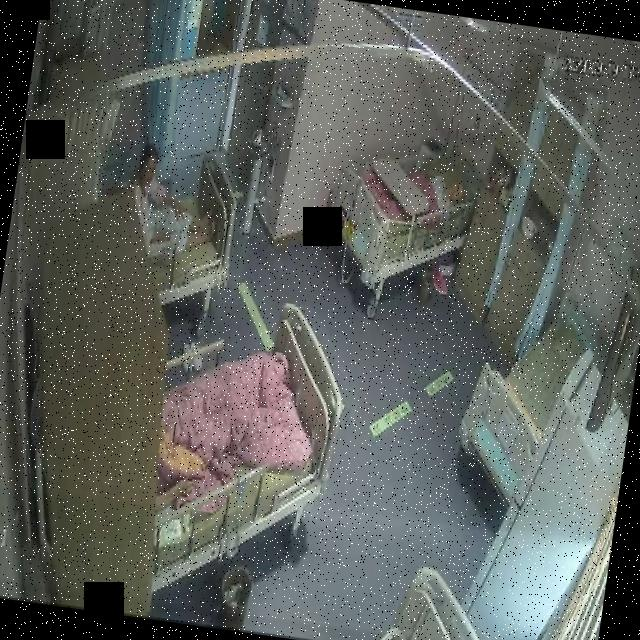bed: (140, 289, 357, 577), (306, 115, 484, 322), (448, 300, 594, 517), (126, 143, 246, 314)
patient: (116, 138, 228, 268), (418, 168, 469, 220)
sit: (115, 140, 228, 269)
